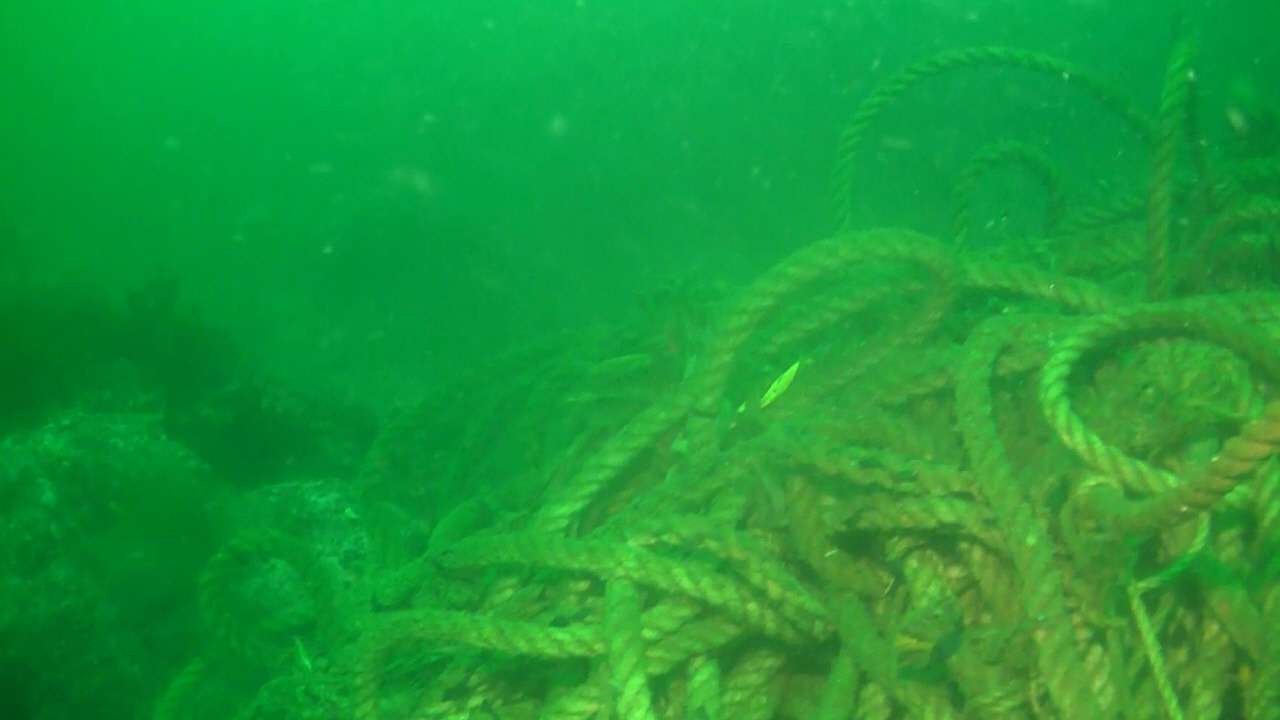bundle of ropes: (152, 0, 1280, 720)
